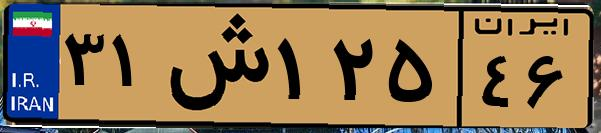1: (270, 28, 330, 110), (110, 28, 158, 98)
2: (330, 28, 385, 110)
3: (57, 26, 110, 100)
4: (475, 38, 525, 113)
5: (385, 28, 445, 110)
6: (525, 38, 570, 115)
ش: (158, 12, 270, 120)
